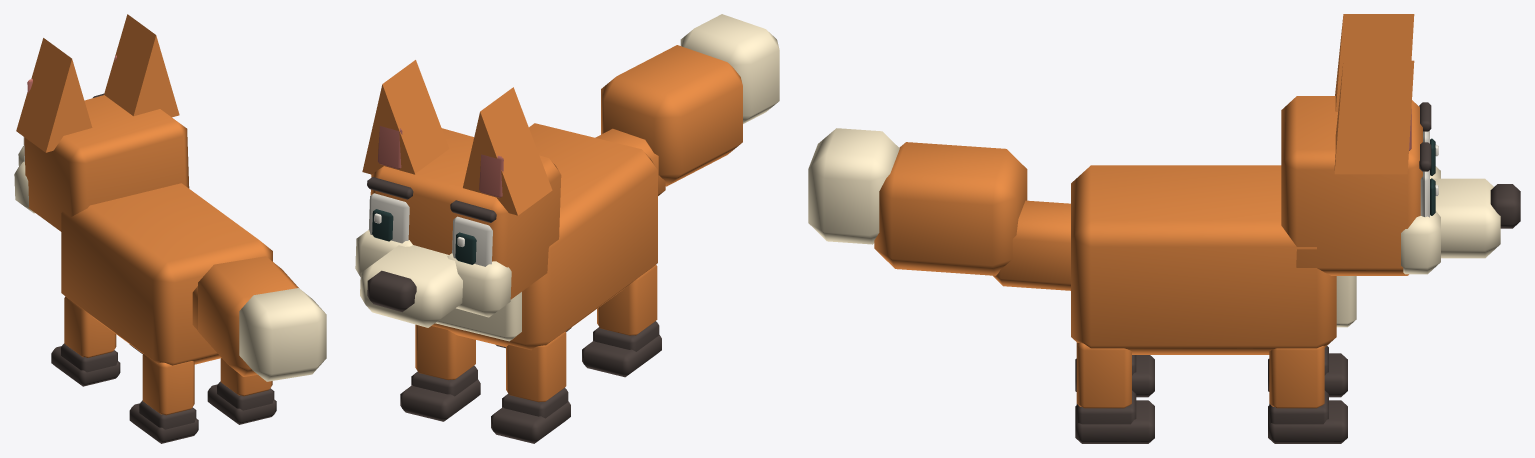
Rendered from fox.glb.
3 views of the same model, side by side, from view 1: azimuth 30°, elevation 25°; view 2: azimuth 150°, elevation 25°; view 3: azimuth 270°, elevation 25° (orthographic). The views are drawn at different scales.
Visible parts, largest first — view 1: Soft square body, Broad friendly face, Vanilla tail tip, Bushy tail, Pointed ear -1, Pointed ear 1, Marmalade leg 2, Marmalade leg 0, Paw 2, Paw 3, Paw 0, Marmalade leg 3 (+4 smaller); view 2: Soft square body, Bushy tail, Broad friendly face, Pointed ear -1, Vanilla tail tip, Pointed ear 1, Tapered muzzle, Marmalade leg 0, Marmalade leg 2, Marmalade leg 1, Left cheek cream, Cream chest bib (+17 smaller); view 3: Soft square body, Broad friendly face, Bushy tail, Pointed ear 1, Vanilla tail tip, Tail base, Tapered muzzle, Pointed ear -1, Marmalade leg 3, Marmalade leg 1, Right cheek cream, Paw 3 (+7 smaller).
Boxes of the visible parts, <box> form: Soft square body: <box>61,183,272,365</box>; Broad friendly face: <box>24,95,189,231</box>; Vanilla tail tip: <box>239,288,326,381</box>; Bushy tail: <box>198,256,298,376</box>; Pointed ear -1: <box>16,38,92,152</box>; Pointed ear 1: <box>104,14,179,117</box>; Marmalade leg 2: <box>142,354,194,415</box>; Marmalade leg 0: <box>64,296,116,357</box>; Paw 2: <box>129,403,198,443</box>; Paw 3: <box>207,384,276,424</box>; Paw 0: <box>51,346,120,386</box>; Marmalade leg 3: <box>220,358,272,396</box>; Soft square body: <box>431,123,657,350</box>; Bushy tail: <box>601,45,742,186</box>; Broad friendly face: <box>370,128,561,299</box>; Pointed ear -1: <box>463,87,552,215</box>; Vanilla tail tip: <box>680,14,779,123</box>; Pointed ear 1: <box>362,60,449,174</box>; Tapered muzzle: <box>360,245,462,327</box>; Marmalade leg 0: <box>506,331,566,402</box>; Marmalade leg 2: <box>597,265,657,335</box>; Marmalade leg 1: <box>415,324,475,379</box>; Left cheek cream: <box>447,253,511,317</box>; Cream chest bib: <box>435,292,521,341</box>; Soft square body: <box>1071,165,1336,354</box>; Broad friendly face: <box>1281,96,1422,275</box>; Bushy tail: <box>874,142,1027,275</box>; Pointed ear 1: <box>1334,60,1414,174</box>; Vanilla tail tip: <box>808,128,899,244</box>; Tail base: <box>993,200,1070,290</box>; Tapered muzzle: <box>1433,178,1500,258</box>; Pointed ear -1: <box>1335,14,1414,111</box>; Marmalade leg 3: <box>1076,342,1131,408</box>; Marmalade leg 1: <box>1269,346,1324,408</box>; Right cheek cream: <box>1401,210,1440,274</box>; Paw 3: <box>1075,400,1154,443</box>.
Size of the model in its own units: 0.8595 by 1.88 by 3.22.
